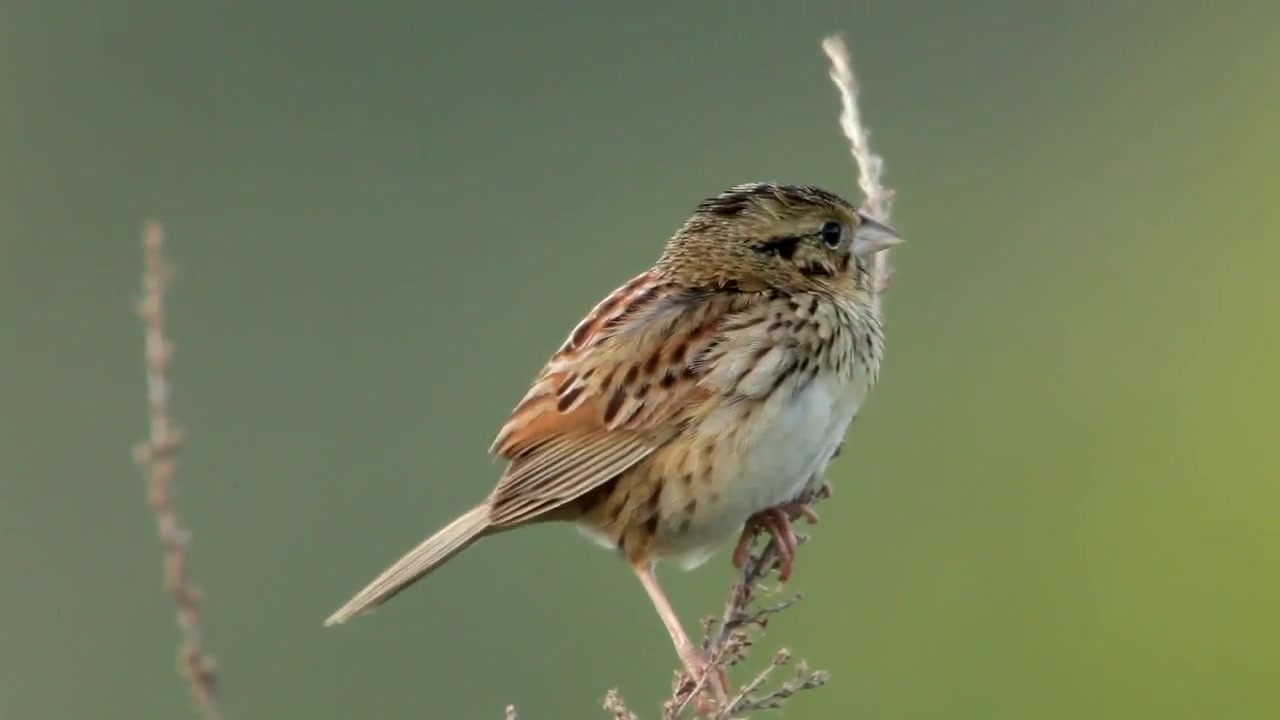bird: (324, 182, 908, 709)
